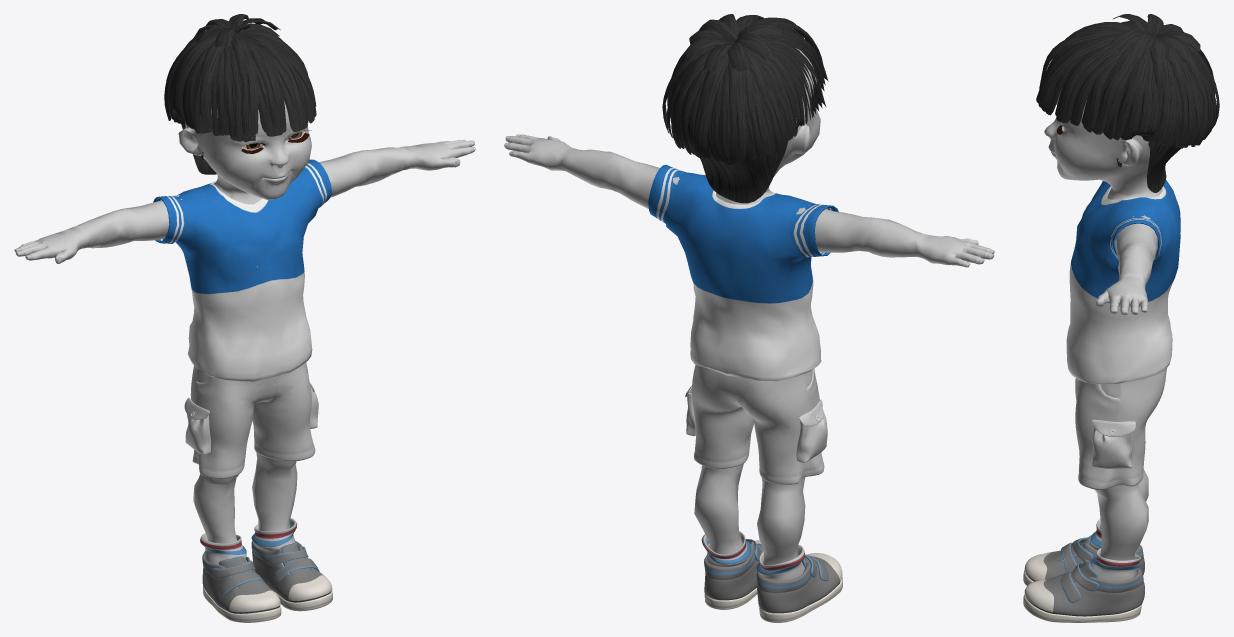
File: kazakh boy.fbx
The picture shows the model from 3 angles, left to right: view 1: azimuth 30°, elevation 25°; view 2: azimuth 150°, elevation 25°; view 3: azimuth 270°, elevation 25°; orthographic projection. The views are drawn at different scales.
Parts seen in each view (by area): view 1: asian boy, kazakh boy.001, Shoe; view 2: asian boy, kazakh boy.001, Shoe; view 3: asian boy, kazakh boy.001, Shoe.
Part boxes in pixels (left/top/right/bottom): asian boy: left=14, top=101, right=475, bottom=574; kazakh boy.001: left=164, top=14, right=316, bottom=174; Shoe: left=200, top=518, right=332, bottom=622; asian boy: left=504, top=48, right=994, bottom=568; kazakh boy.001: left=662, top=14, right=828, bottom=203; Shoe: left=701, top=531, right=842, bottom=622; asian boy: left=1044, top=89, right=1180, bottom=560; kazakh boy.001: left=1036, top=14, right=1219, bottom=192; Shoe: left=1023, top=519, right=1144, bottom=622.
Size of the model in its own units: 190 by 221 by 68.07.
